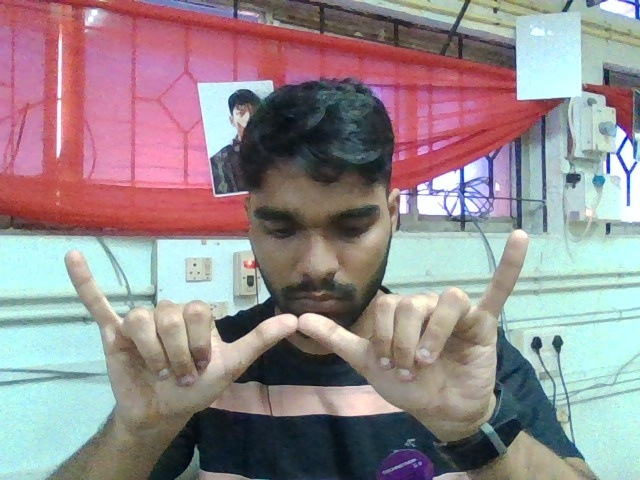play: (49, 223, 550, 438)
